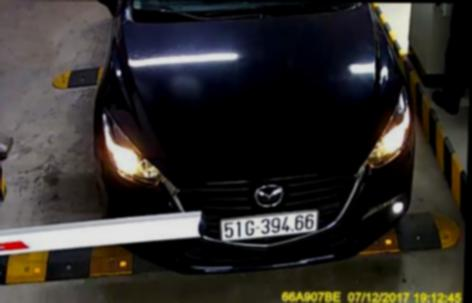License_Plate: (216, 203, 326, 242)
